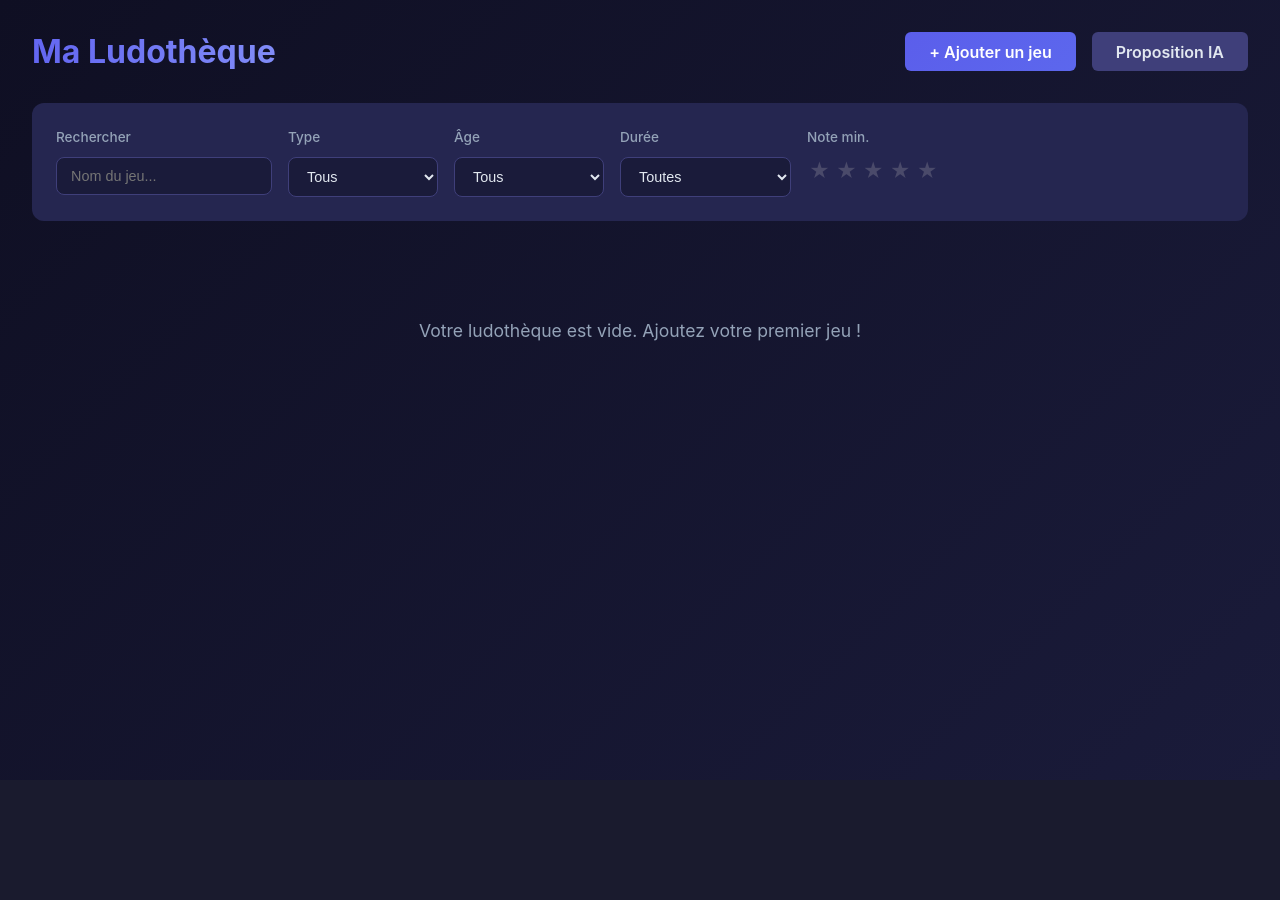
Scenario: LudothequePage › opens add game modal
Click the button "+ Ajouter un jeu" at {"x": 990, "y": 52}, box [905, 32, 1076, 71]
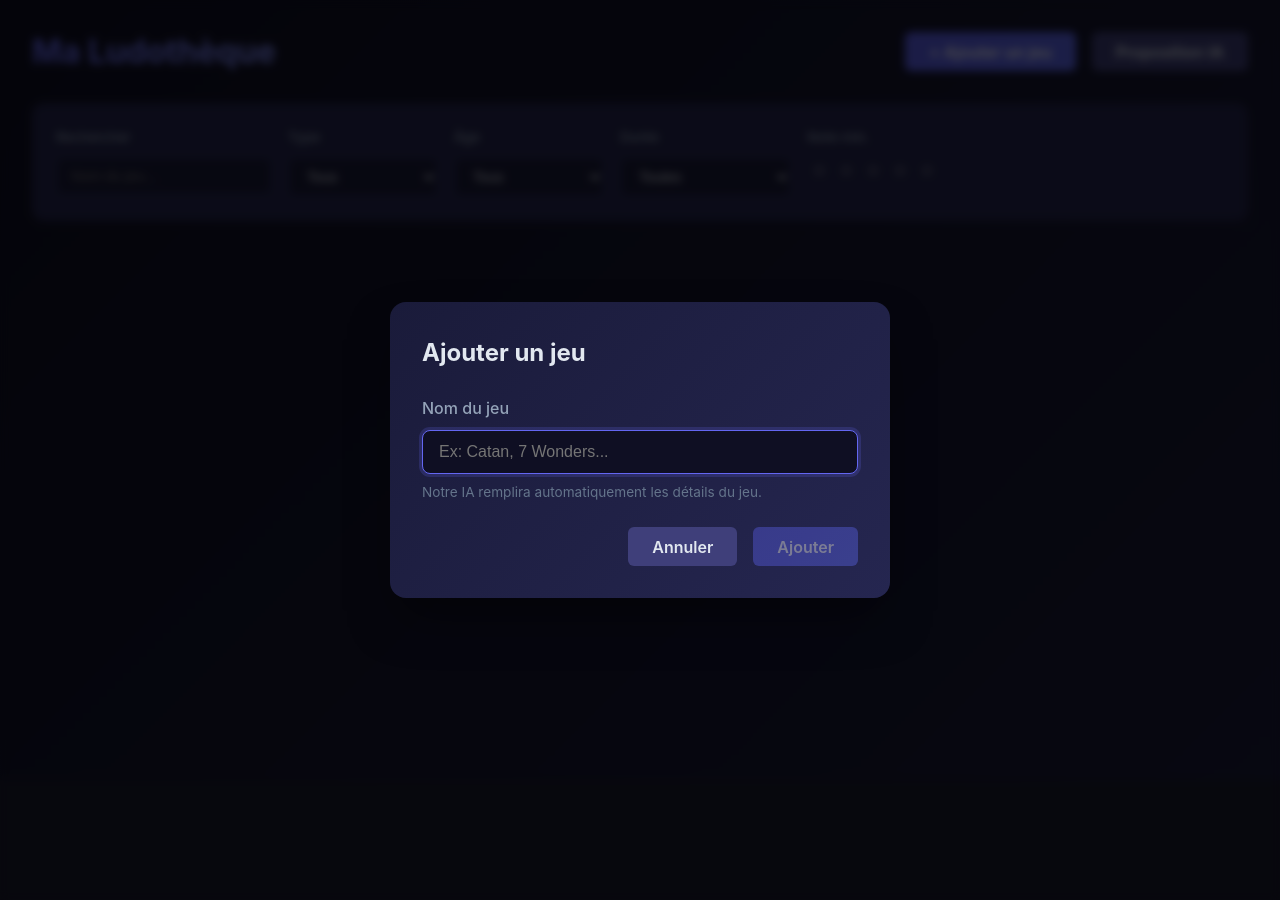
Expected: the heading "Ajouter un jeu" is shown, [422, 338, 586, 366]
Expected: the field with placeholder "Ex: Catan, 7 Wonders..." is shown, [422, 430, 858, 474]
